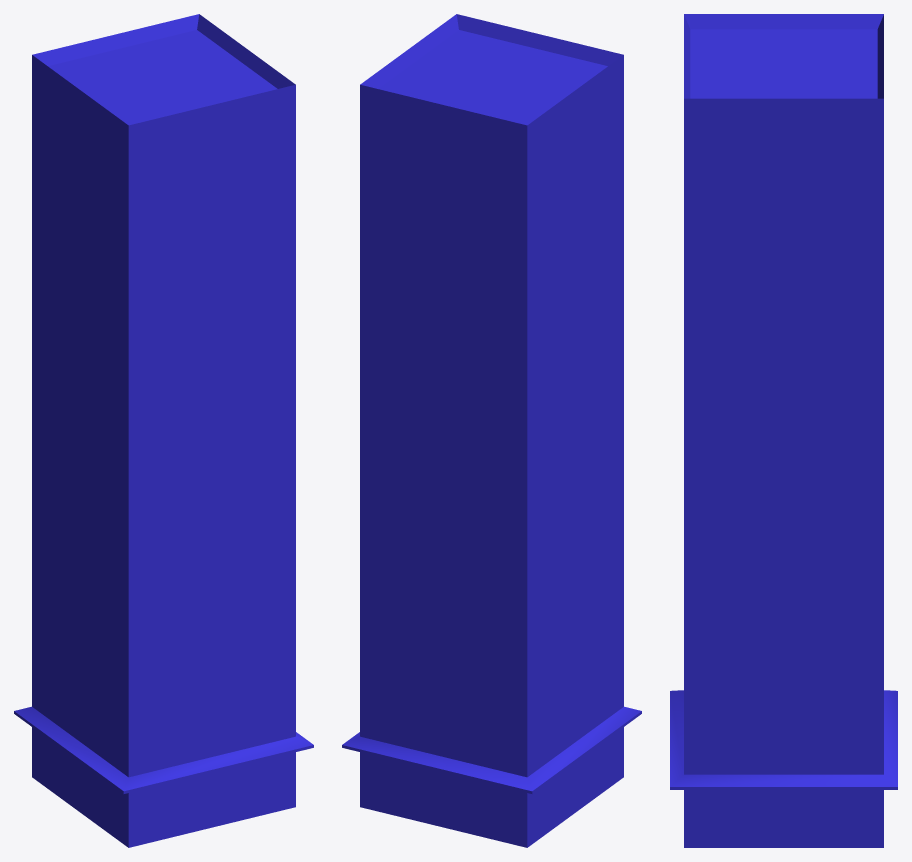
File: cube.213_lev1_lev3.glb
3 renders of one model, left to right at view 1: azimuth 30°, elevation 25°; view 2: azimuth 150°, elevation 25°; view 3: azimuth 270°, elevation 25°, orthographic. The views are drawn at different scales.
Parts seen in each view (by area): view 1: cube.213_lev1_lev3; view 2: cube.213_lev1_lev3; view 3: cube.213_lev1_lev3.
Boxes of the visible parts, x1,y1,x2,y2 form: cube.213_lev1_lev3: (14,14,313,847); cube.213_lev1_lev3: (342,14,641,847); cube.213_lev1_lev3: (670,14,897,847).
Size of the model in its own units: 4.4 by 15.97 by 4.4.
